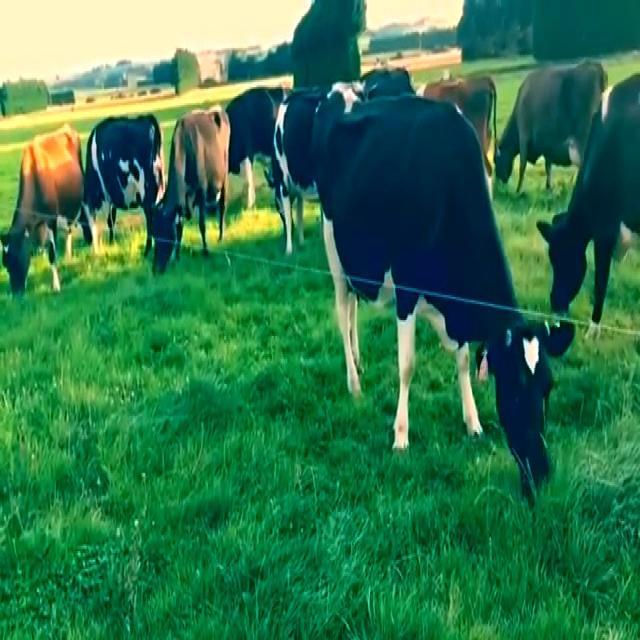COW: (2, 71, 574, 501), (496, 62, 640, 328)
